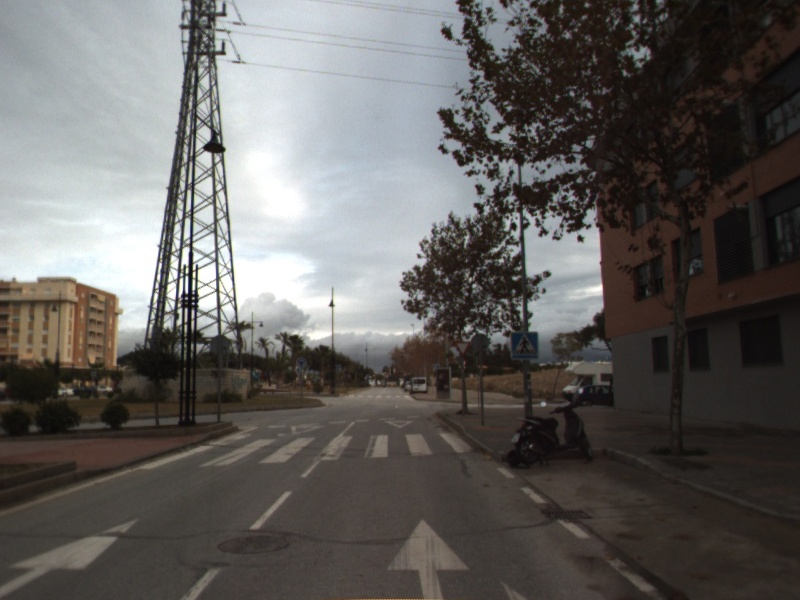STRAIGHT: (1, 515, 143, 598), (385, 516, 472, 600)
